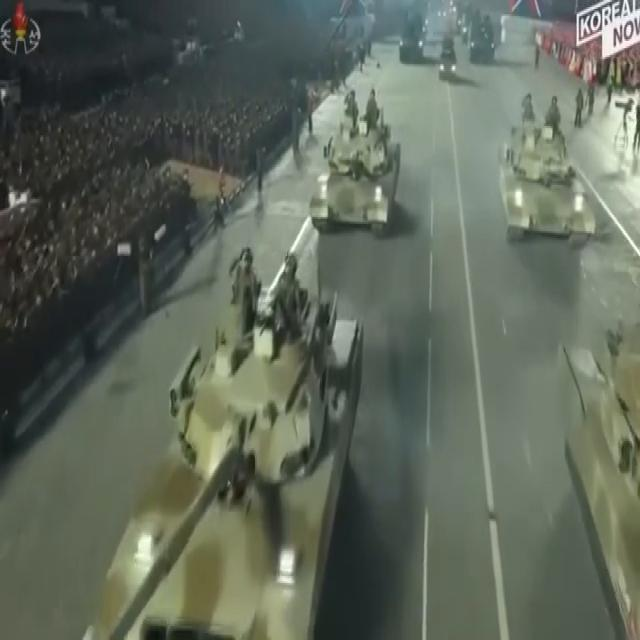north tank: (74, 236, 367, 640), (551, 306, 640, 640), (486, 81, 614, 274), (304, 49, 410, 258)
